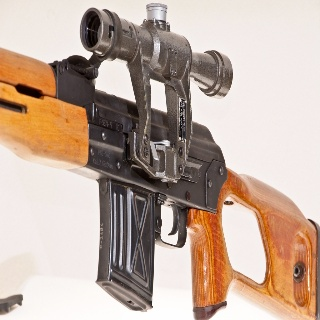rifle: (1, 1, 320, 320)
